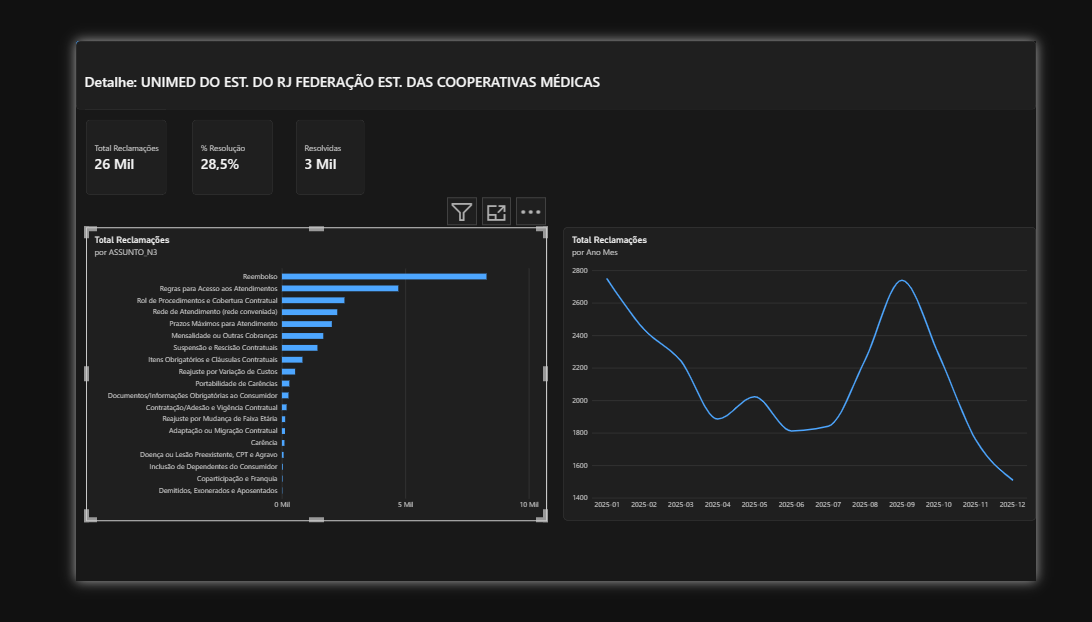

What the dashboard file says about the page in this screenshot:
{"tool":"powerbi","page":{"name":"Detalhe Operadora","canvas":[1920,1080],"ordinal":2},"visuals":[{"type":"actionButton","box":[0,0,100,40],"z":0},{"type":"cardVisual","fields":{"Data":["_Medidas.Titulo Operadora"]},"box":[0,0,1920.1,137.5],"z":1000},{"type":"cardVisual","fields":{"Data":["_Medidas.Total Reclamacoes"]},"box":[19.9,157.4,161.1,150.2],"z":1001},{"type":"cardVisual","fields":{"Data":["_Medidas.% Resolucao"]},"box":[233.4,157.4,161.1,150.2],"z":1002},{"type":"cardVisual","fields":{"Data":["_Medidas.Resolvidas"]},"box":[439.7,157.4,137.5,150.2],"z":1003},{"type":"barChart","fields":{"Category":["dAssunto.ASSUNTO_N3"],"Y":["_Medidas.Total Reclamacoes"]},"box":[19.9,372.8,922.9,586.3],"z":1004},{"type":"lineChart","fields":{"Category":["dCalendario.Ano Mes"],"Y":["_Medidas.Total Reclamacoes"]},"box":[975.4,372.8,944.6,586.3],"z":1005}]}

Visuals, with their boxes in screenshot pixels (x1, y1, x2, y2), scaled from the page's 1920x1080 canvas onto the 1092x622 screenshot:
actionButton: 0/0/57/23
cardVisual - _Medidas.Titulo Operadora: 0/0/1091/79
cardVisual - _Medidas.Total Reclamacoes: 11/91/103/177
cardVisual - _Medidas.% Resolucao: 133/91/224/177
cardVisual - _Medidas.Resolvidas: 250/91/328/177
barChart - dAssunto.ASSUNTO_N3 x _Medidas.Total Reclamacoes: 11/215/536/552
lineChart - dCalendario.Ano Mes x _Medidas.Total Reclamacoes: 555/215/1091/552
